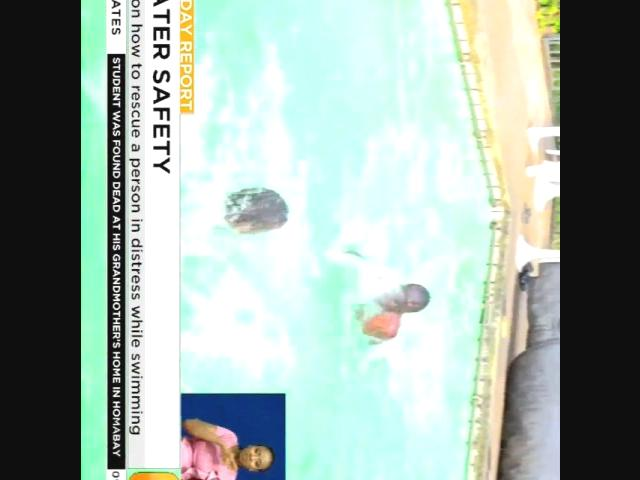drowning: (200, 171, 300, 250)
swimming: (341, 257, 435, 362)
